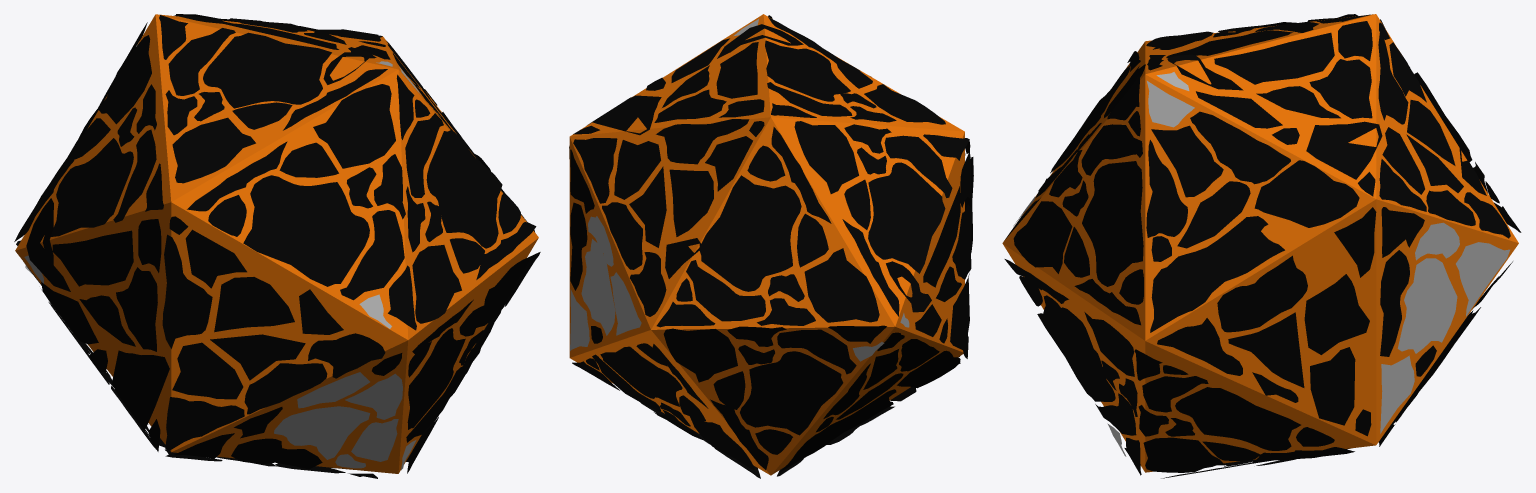
The model's file is Fireball.fbx.
3 views of the same model, side by side, from view 1: azimuth 30°, elevation 25°; view 2: azimuth 150°, elevation 25°; view 3: azimuth 270°, elevation 25° (orthographic). The views are drawn at different scales.
Parts seen in each view (by area): view 1: pPlatonic1, pasted__polySurface53 (×2), pasted__pasted__polySurface53 (×2), pasted__polySurface58 (×2), polySurface53, pasted__polySurface54 (×2), pasted__pasted__polySurface58 (×2), polySurface58, pasted__polySurface50, pasted__polySurface44, pasted__polySurface67, polySurface91 (+38 smaller); view 2: pPlatonic1, pasted__pasted__pasted__pasted__polySurface53 (×2), pasted__pasted__pasted__pasted__pasted__polySurface53, pasted__polySurface53, pasted__pasted__pasted__pasted__polySurface58 (×2), pasted__pasted__pasted__pasted__pasted__polySurface58, polySurface53, pasted__polySurface58, pasted__pasted__pasted__pasted__polySurface54 (×2), pasted__pasted__pasted__pasted__pasted__polySurface54, polySurface44, polySurface67 (+55 smaller); view 3: pPlatonic1, pasted__pasted__polySurface53 (×2), polySurface61, polySurface14, pasted__pasted__pasted__polySurface53, pasted__pasted__polySurface58 (×2), polySurface69, polySurface87, polySurface50, polySurface60, polySurface21, polySurface9 (+42 smaller).
Part boxes in pixels (bbox=[...]): pPlatonic1: bbox=[15, 14, 538, 473]; pasted__polySurface53 (×2): bbox=[50, 138, 369, 286]; pasted__pasted__polySurface53 (×2): bbox=[407, 130, 502, 429]; pasted__polySurface58 (×2): bbox=[98, 35, 395, 168]; polySurface53: bbox=[203, 32, 331, 108]; pasted__polySurface54 (×2): bbox=[113, 129, 404, 300]; pasted__pasted__polySurface58 (×2): bbox=[412, 245, 530, 327]; polySurface58: bbox=[172, 117, 255, 183]; pasted__polySurface50: bbox=[52, 230, 133, 286]; pasted__polySurface44: bbox=[214, 277, 294, 332]; pasted__polySurface67: bbox=[162, 234, 212, 348]; polySurface91: bbox=[274, 406, 370, 459]; pPlatonic1: bbox=[569, 14, 964, 475]; pasted__pasted__pasted__pasted__polySurface53 (×2): bbox=[600, 346, 843, 435]; pasted__pasted__pasted__pasted__pasted__polySurface53: bbox=[699, 175, 801, 291]; pasted__polySurface53: bbox=[868, 162, 945, 273]; pasted__pasted__pasted__pasted__polySurface58 (×2): bbox=[663, 328, 754, 469]; pasted__pasted__pasted__pasted__pasted__polySurface58: bbox=[804, 248, 879, 322]; polySurface53: bbox=[765, 40, 850, 101]; pasted__polySurface58: bbox=[794, 121, 858, 193]; pasted__pasted__pasted__pasted__polySurface54 (×2): bbox=[592, 329, 856, 411]; pasted__pasted__pasted__pasted__pasted__polySurface54: bbox=[686, 260, 765, 321]; polySurface44: bbox=[669, 169, 713, 236]; polySurface67: bbox=[656, 119, 749, 164]; pPlatonic1: bbox=[1002, 14, 1518, 472]; pasted__pasted__polySurface53 (×2): bbox=[1037, 161, 1143, 401]; polySurface61: bbox=[1150, 216, 1284, 332]; polySurface14: bbox=[1254, 160, 1359, 227]; pasted__pasted__pasted__polySurface53: bbox=[1175, 387, 1300, 450]; pasted__pasted__polySurface58 (×2): bbox=[1013, 201, 1134, 376]; polySurface69: bbox=[1217, 255, 1307, 332]; polySurface87: bbox=[1397, 258, 1457, 353]; polySurface50: bbox=[1214, 32, 1334, 84]; polySurface60: bbox=[1190, 111, 1290, 184]; polySurface21: bbox=[1304, 274, 1369, 354]; polySurface9: bbox=[1306, 121, 1382, 179].
Size of the model in its own units: 2.89 by 2.8 by 3.2.
